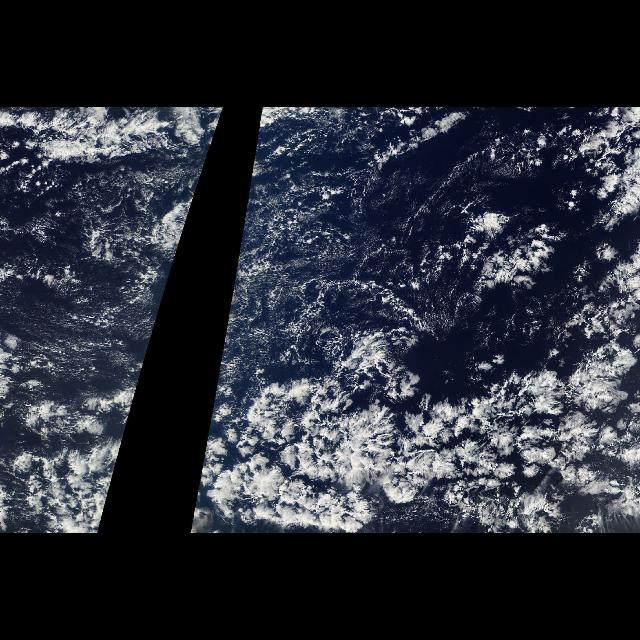Sugar: (5, 191, 196, 383), (217, 191, 385, 383)
